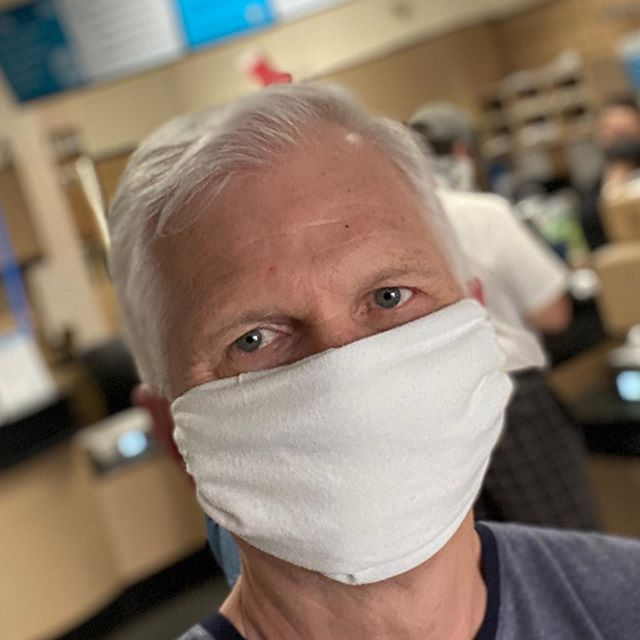homemade: (146, 344, 571, 585)
